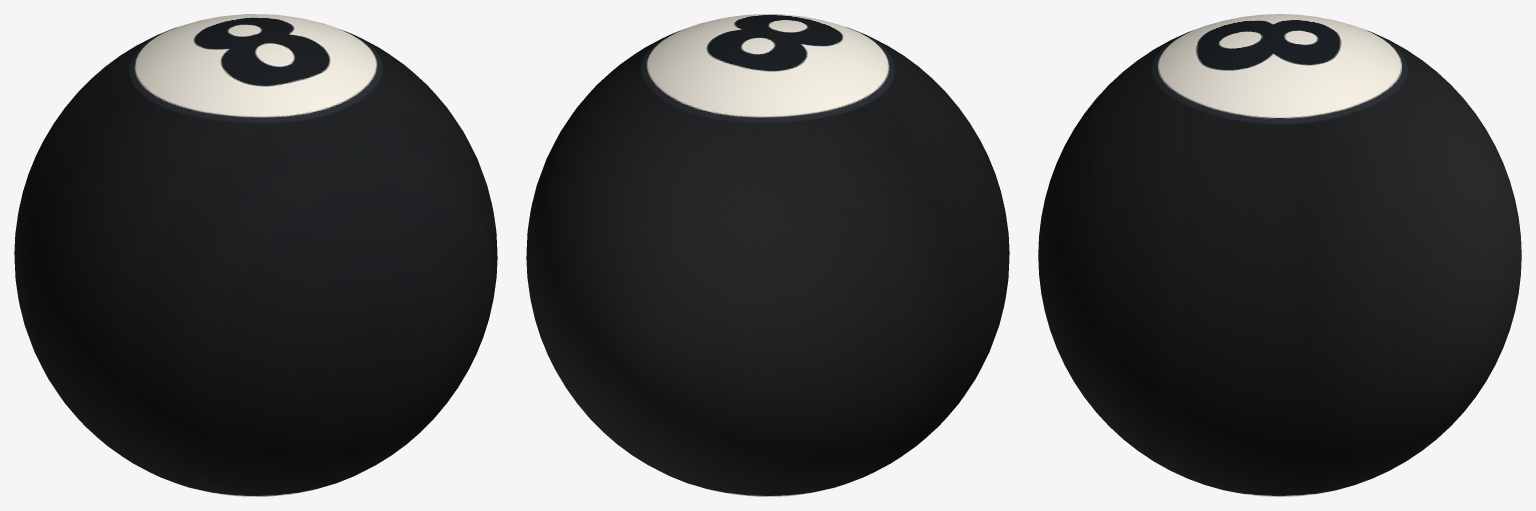
File: ball-pool-8.glb
3 views of the same model, side by side, from view 1: azimuth 30°, elevation 25°; view 2: azimuth 150°, elevation 25°; view 3: azimuth 270°, elevation 25° (orthographic).
Parts seen in each view (by area): view 1: ball; view 2: ball; view 3: ball.
Part boxes in pixels (bbox=[...]): ball: bbox=[14, 14, 497, 496]; ball: bbox=[526, 14, 1009, 496]; ball: bbox=[1038, 14, 1521, 496].
Size of the model in its own units: 0.0655 by 0.0655 by 0.0655.
1 material, 1 textured.
